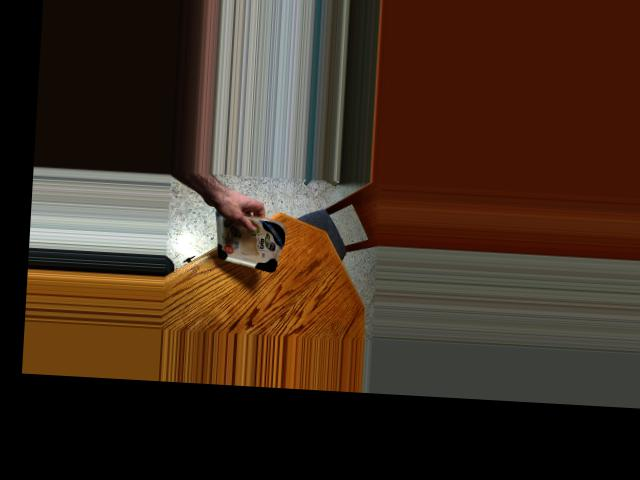cheese: (204, 212, 290, 267)
